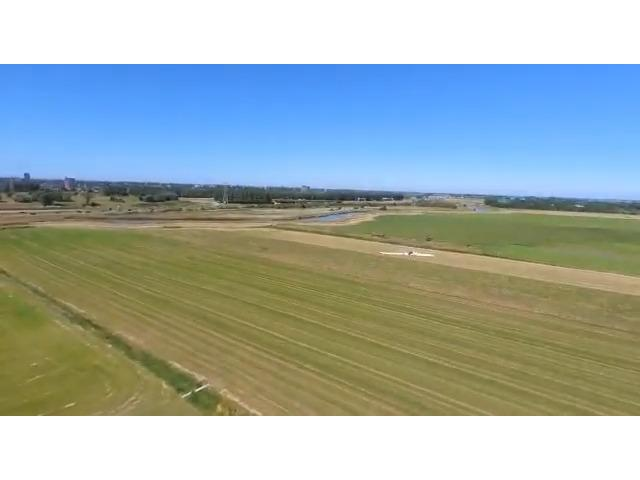Anti-Drone: (382, 236, 442, 272)
